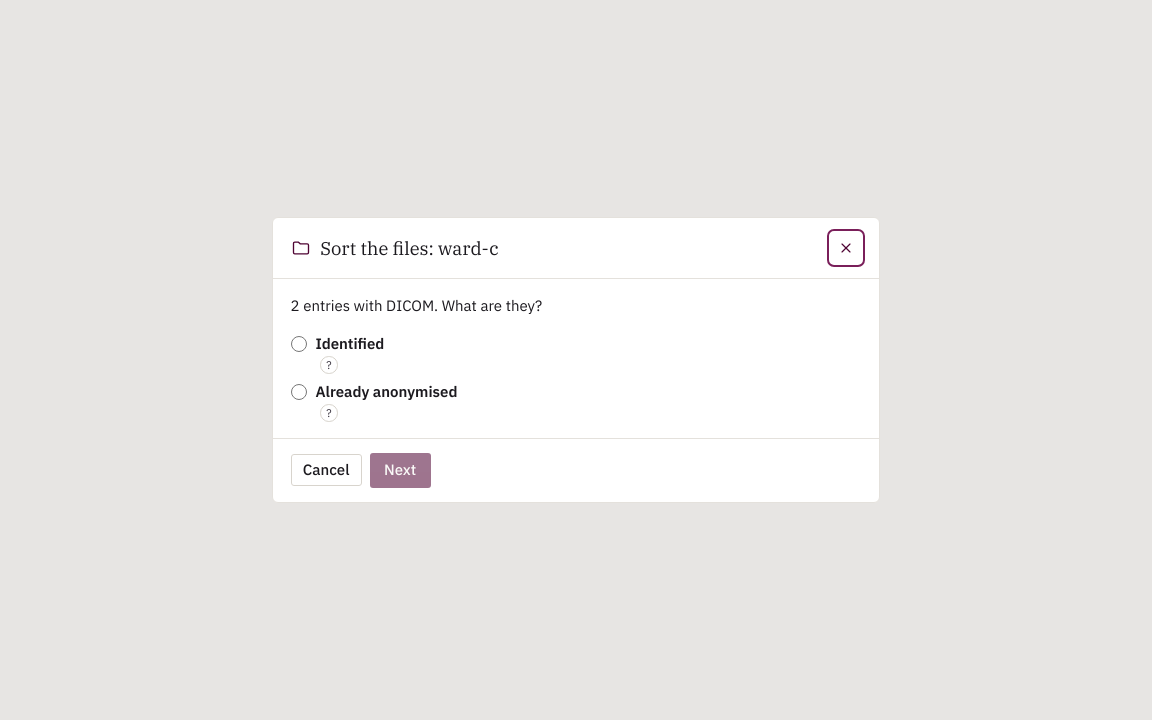
Test: Sort the files › names the entries only at the sensitive level, since a raw export's folder can be named after the patient
Step 1. Click the radio button labelled "Identified ?" → (299, 344), box x1=291 y1=336 x2=307 y2=352
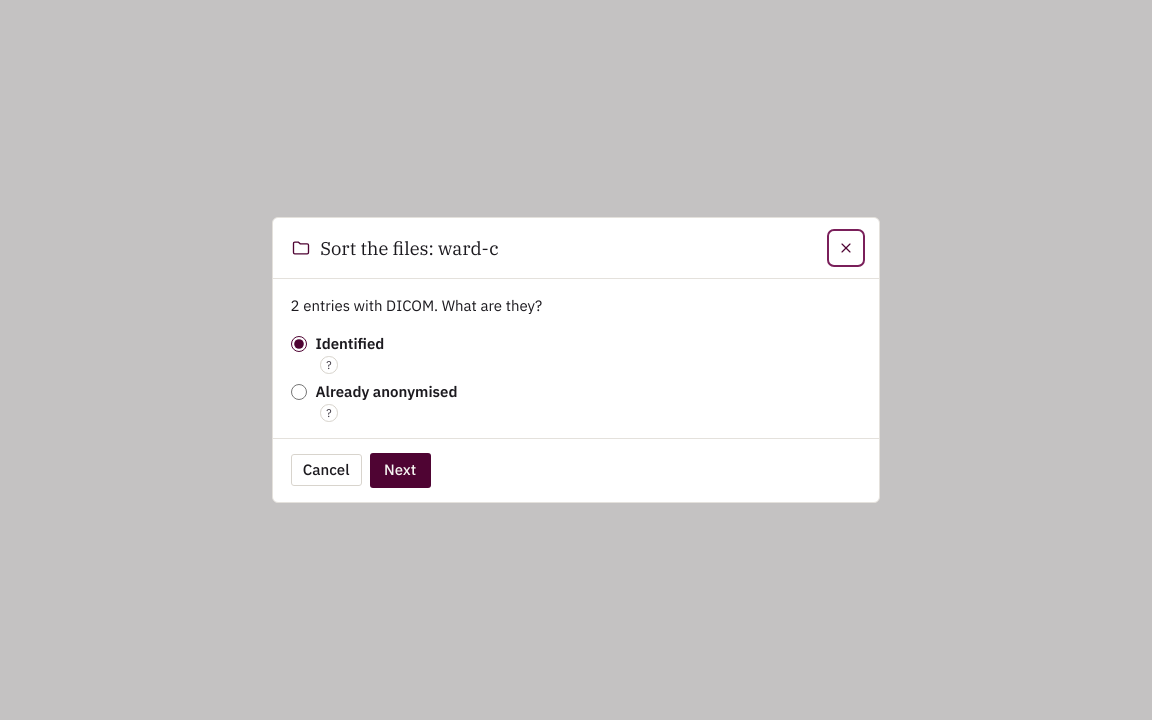
Step 2. Click the button "Next" → (400, 470), box x1=370 y1=453 x2=431 y2=488
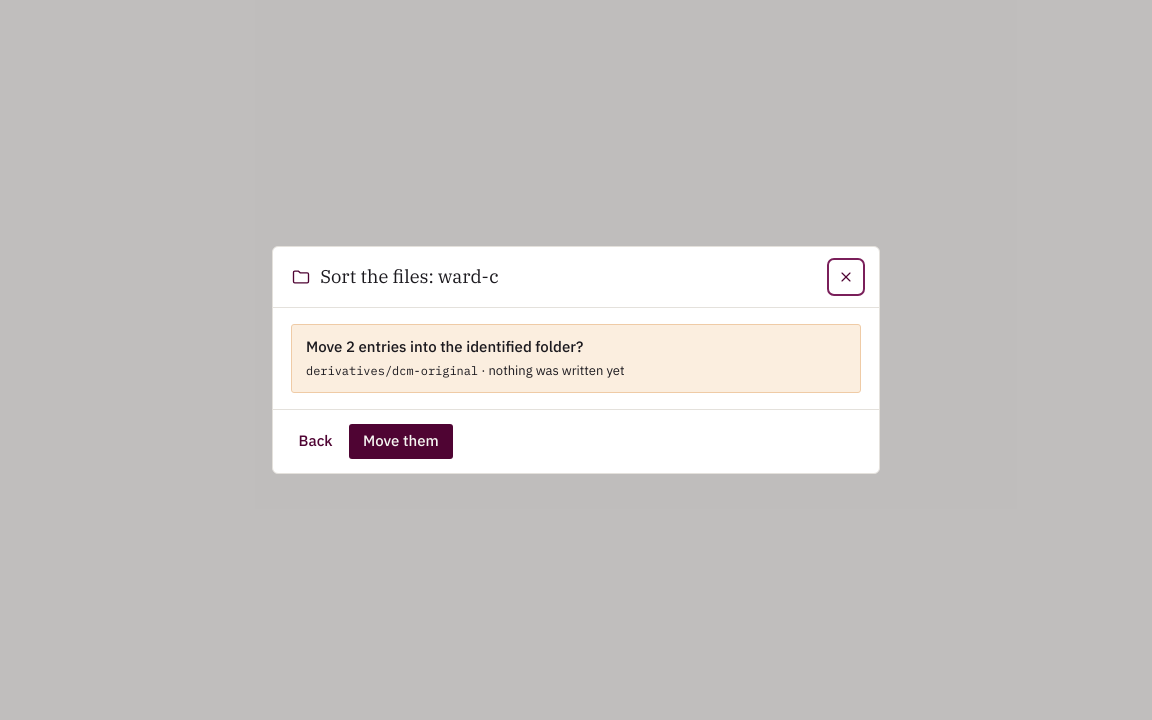
Now the dialog named "Confirm the move" shows "Move 2 entries into the identified folder?", box x1=306 y1=337 x2=583 y2=356
